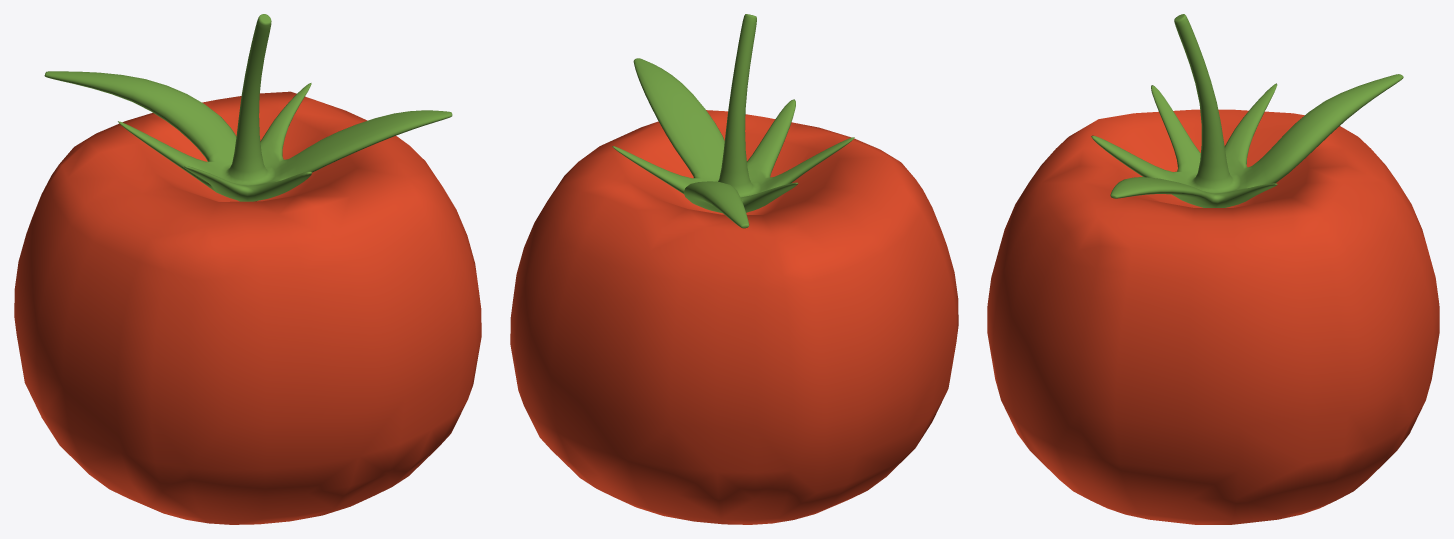
Rendered from Tomato_1.fbx.
The picture shows the model from 3 angles, left to right: view 1: azimuth 30°, elevation 25°; view 2: azimuth 150°, elevation 25°; view 3: azimuth 270°, elevation 25°; orthographic projection. The views are drawn at different scales.
Parts seen in each view (by area): view 1: Cube, Cylinder; view 2: Cube, Cylinder; view 3: Cube, Cylinder.
Boxes of the visible parts, bbox=[...] form: Cube: bbox=[14, 91, 481, 524]; Cylinder: bbox=[44, 14, 452, 201]; Cube: bbox=[510, 110, 958, 524]; Cylinder: bbox=[612, 14, 854, 228]; Cube: bbox=[987, 109, 1439, 524]; Cylinder: bbox=[1091, 14, 1403, 207].
Size of the model in its own units: 3.41 by 3.93 by 3.44.
